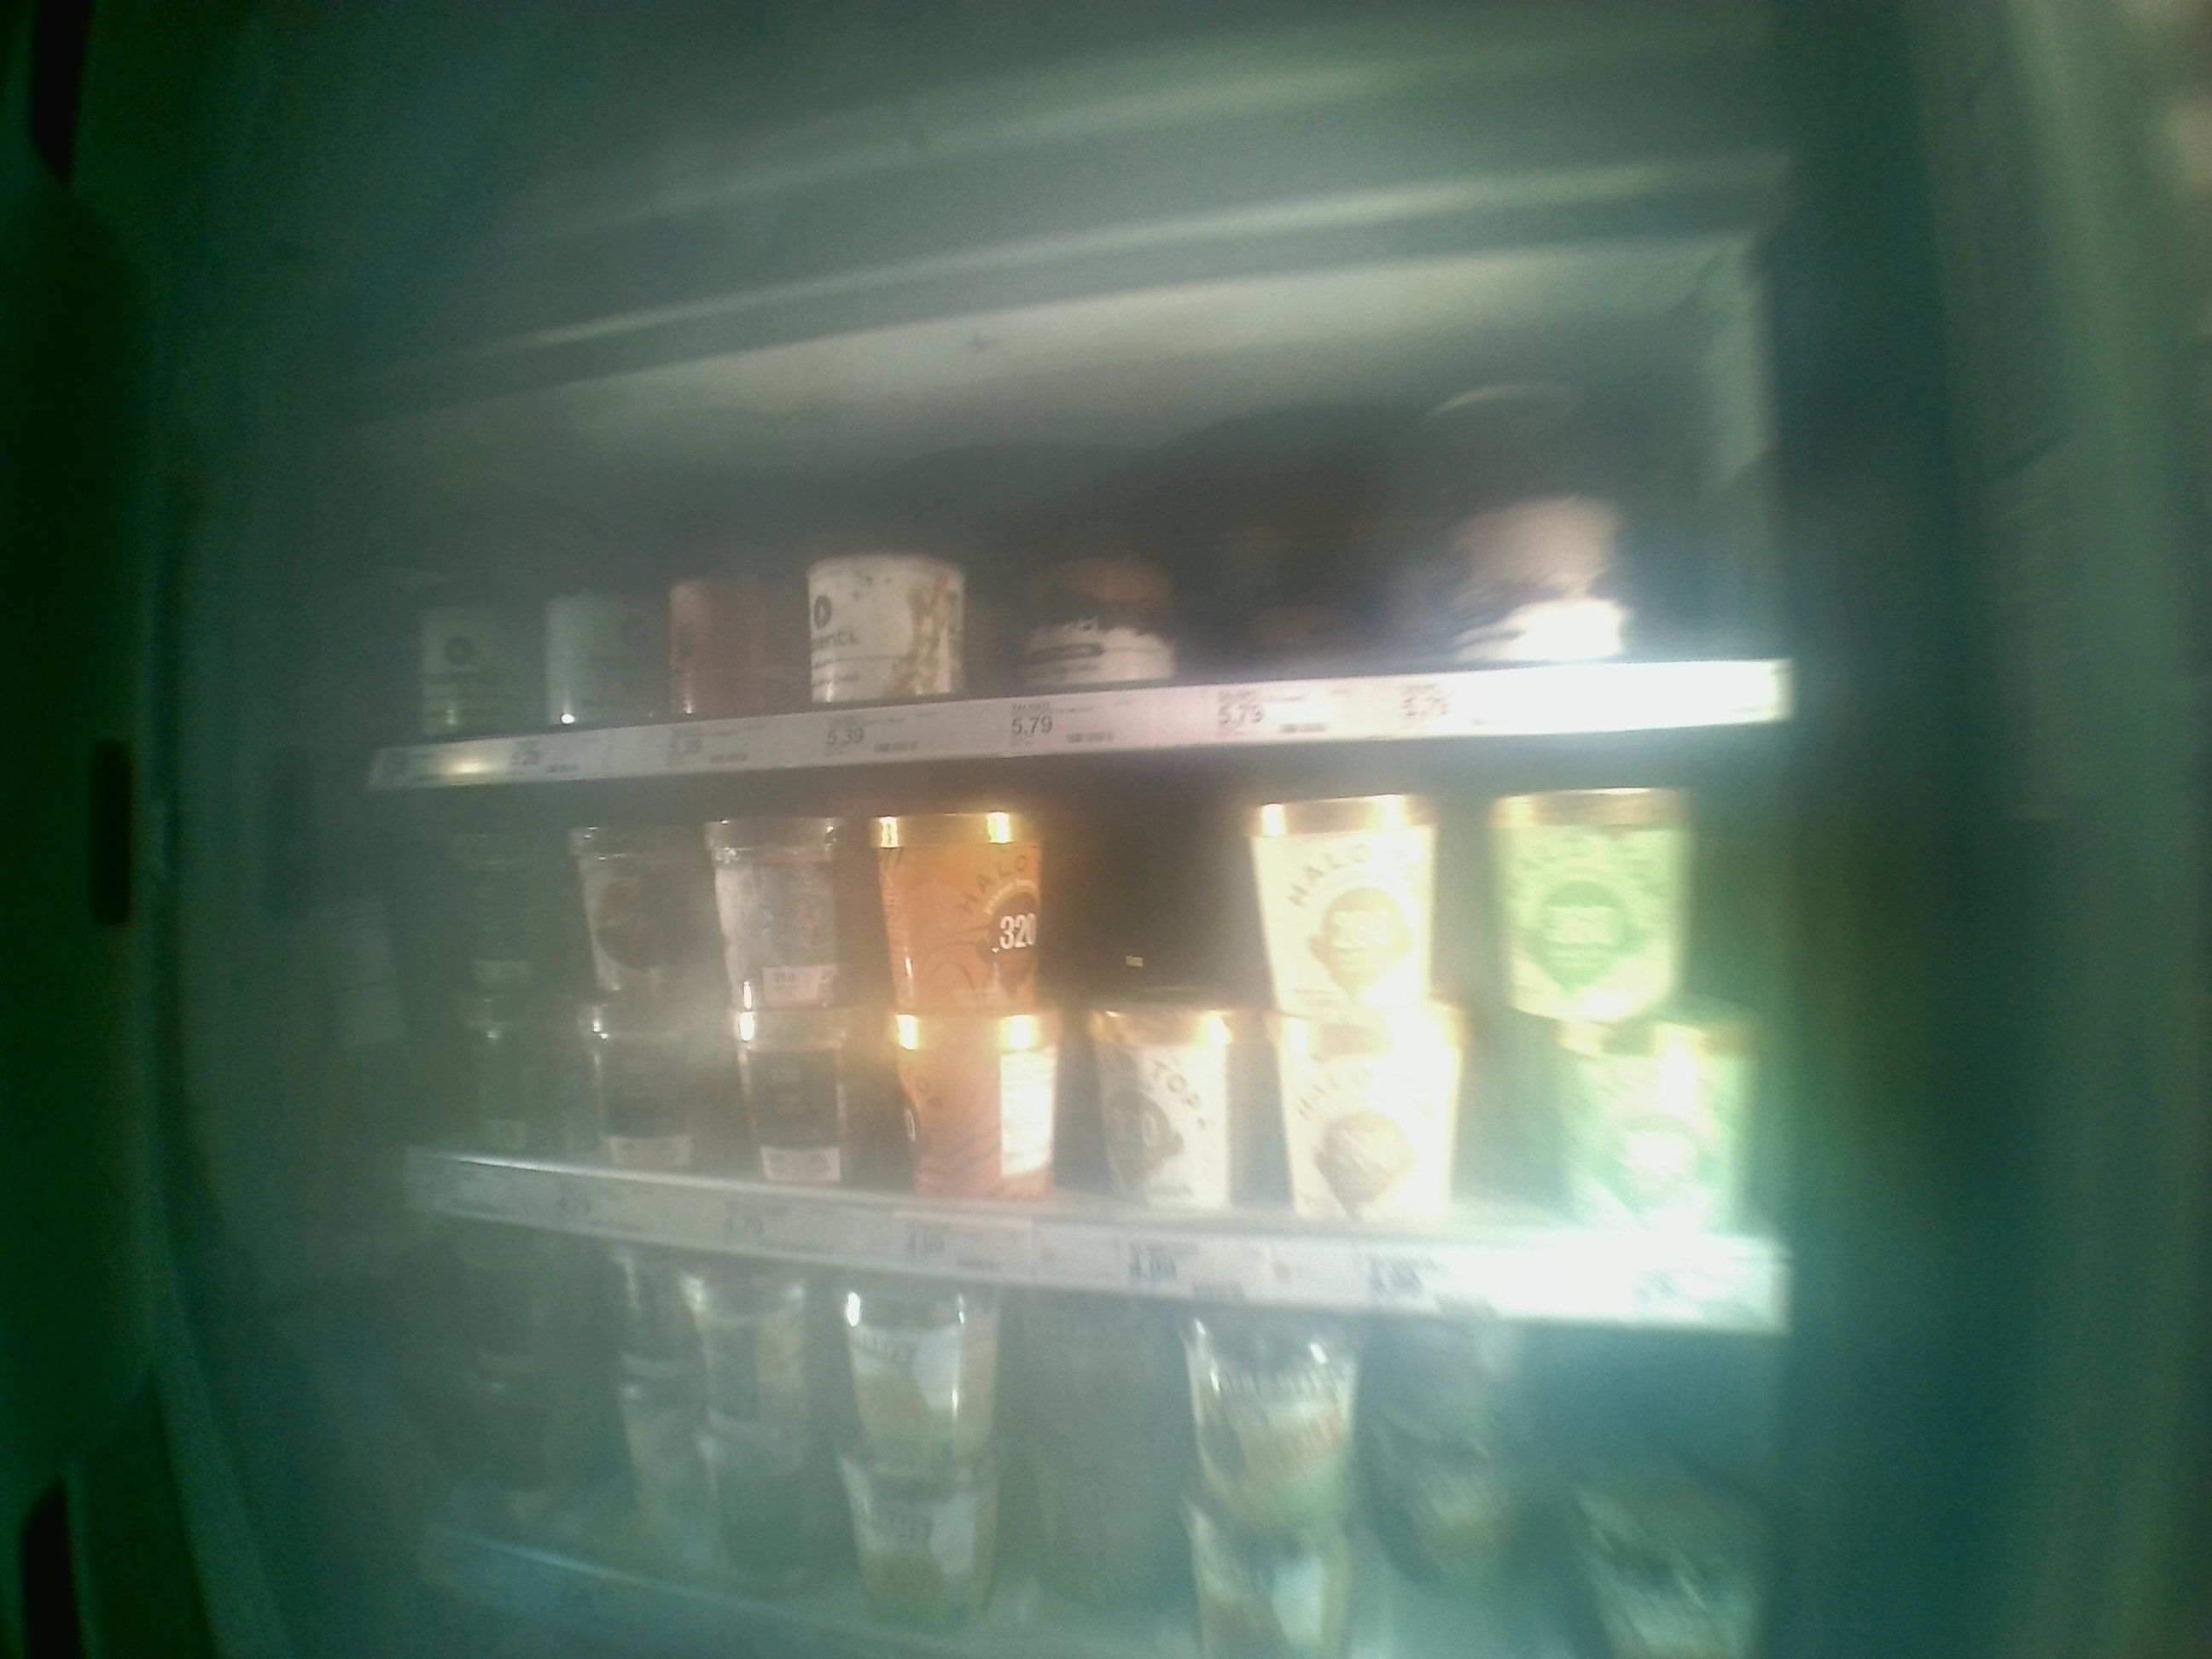shelf: (374, 718, 1789, 1338), (369, 310, 1787, 788)
